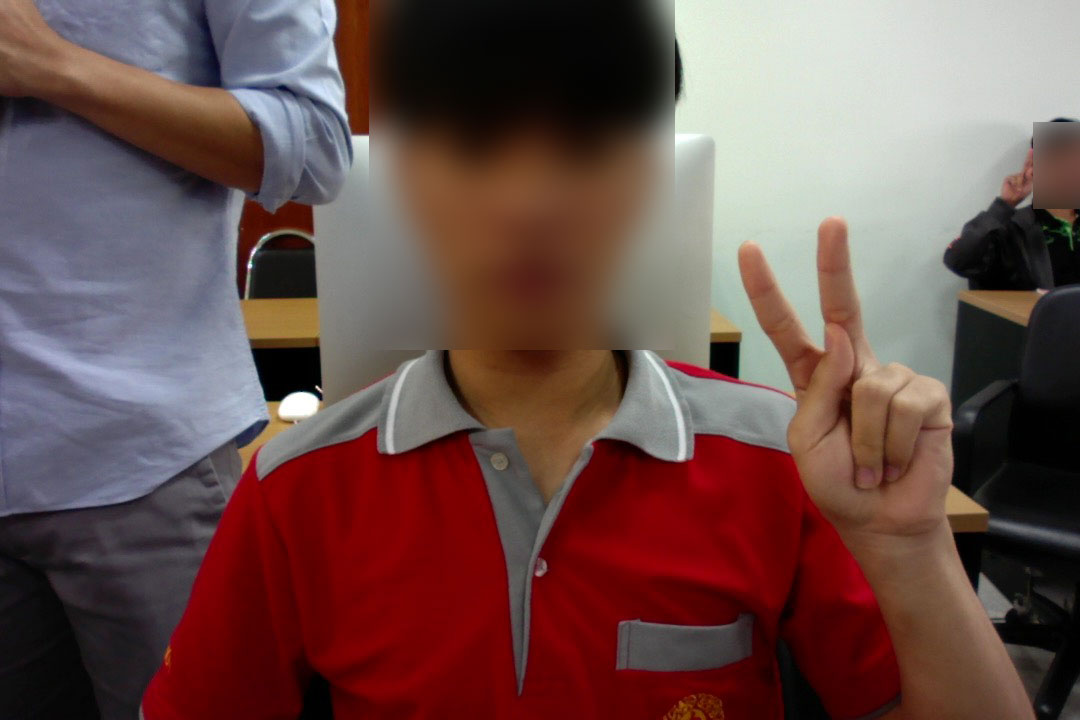ko: (717, 206, 967, 554)
